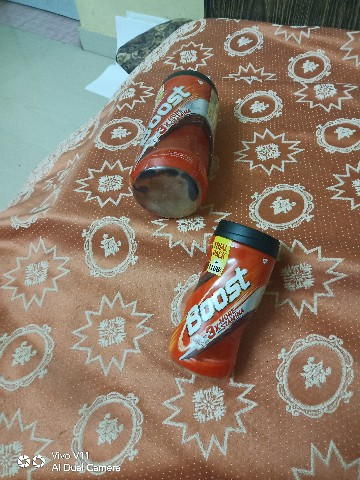boost big: (131, 50, 227, 211)
boost small: (125, 218, 319, 387)
